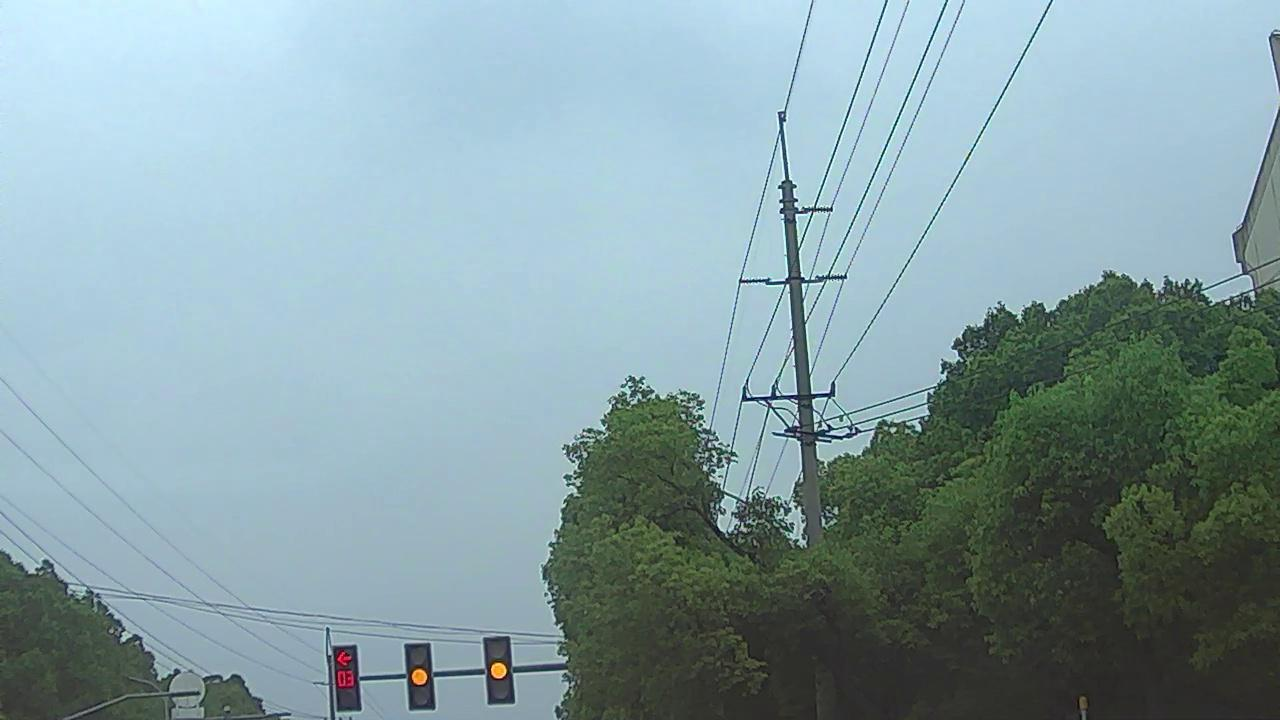traffic_light: (328, 642, 359, 715), (405, 644, 437, 707), (484, 639, 513, 703)
